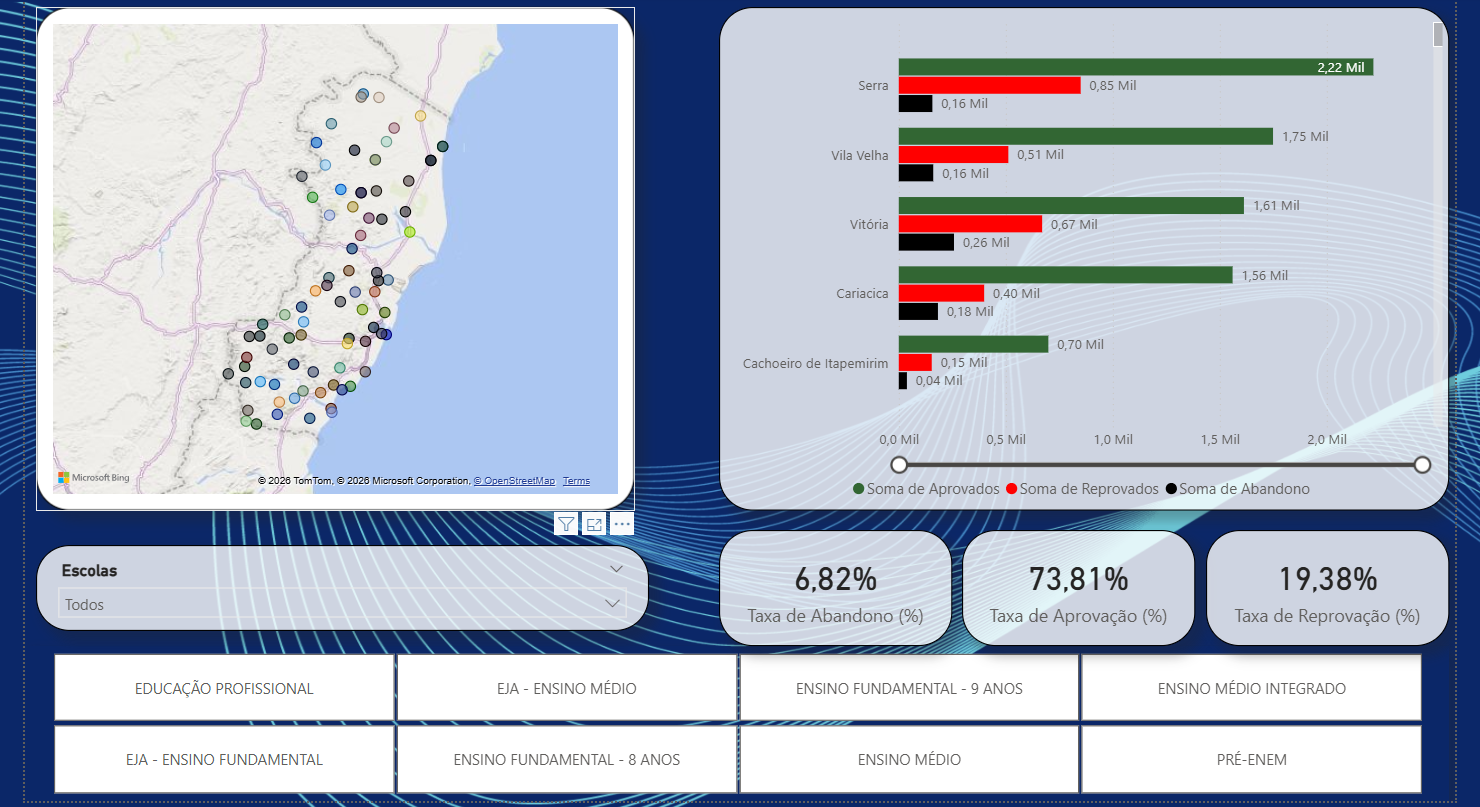

Layout of this report page (visuals, bound fields, positions):
{"tool":"powerbi","page":{"name":"Página 1","canvas":[1280,720],"ordinal":0},"visuals":[{"type":"map","fields":{"Category":["dadosrendimento.REGIÃO AJUSTADA"],"Series":["dadosrendimento.Municipio"]},"box":[9.9,9,536.4,451.3],"z":0},{"type":"clusteredBarChart","fields":{"Category":["dadosrendimento.Municipio"],"Y":["Sum(dadosrendimento.TotalAprovados)","Sum(dadosrendimento.TotalReprovados)","Sum(dadosrendimento.TotalAbandonos)"]},"box":[621.5,9,653.7,451.3],"z":1000},{"type":"slicer","fields":{"Values":["dadosrendimento.Escola","dadosrendimento.Municipio"]},"box":[9.8,490.9,536.2,76.7],"z":2000},{"type":"slicer","fields":{"Values":["dadosrendimento.TipoEnsino"]},"box":[0,581.2,1275.2,138.8],"z":3000},{"type":"card","fields":{"Values":["dadosrendimento.Taxa de Abandono (%)"]},"box":[621.5,477.3,208.7,103.9],"z":4000},{"type":"card","fields":{"Values":["dadosrendimento.Taxa de Aprovação (%)"]},"box":[839.1,477.3,208.7,103.9],"z":6000},{"type":"card","fields":{"Values":["dadosrendimento.Taxa de Reprovação (%)"]},"box":[1057.6,477.3,217.6,103.9],"z":7000}]}

Visuals, with their boxes in screenshot pixels (x1, y1, x2, y2):
map - dadosrendimento.REGIÃO AJUSTADA x dadosrendimento.Municipio: bbox(42, 6, 634, 504)
clusteredBarChart - dadosrendimento.Municipio x Sum(dadosrendimento.TotalAprovados): bbox(717, 6, 1438, 504)
slicer - dadosrendimento.Escola x dadosrendimento.Municipio: bbox(42, 538, 633, 622)
slicer - dadosrendimento.TipoEnsino: bbox(31, 637, 1438, 791)
card - dadosrendimento.Taxa de Abandono (%): bbox(717, 523, 947, 637)
card - dadosrendimento.Taxa de Aprovação (%): bbox(957, 523, 1187, 637)
card - dadosrendimento.Taxa de Reprovação (%): bbox(1198, 523, 1438, 637)
